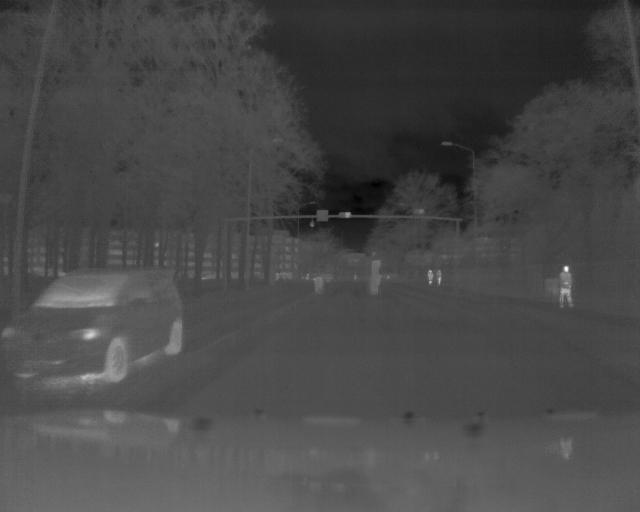car: (4, 265, 187, 387)
person: (556, 262, 576, 310), (427, 266, 434, 289), (436, 267, 442, 290)
